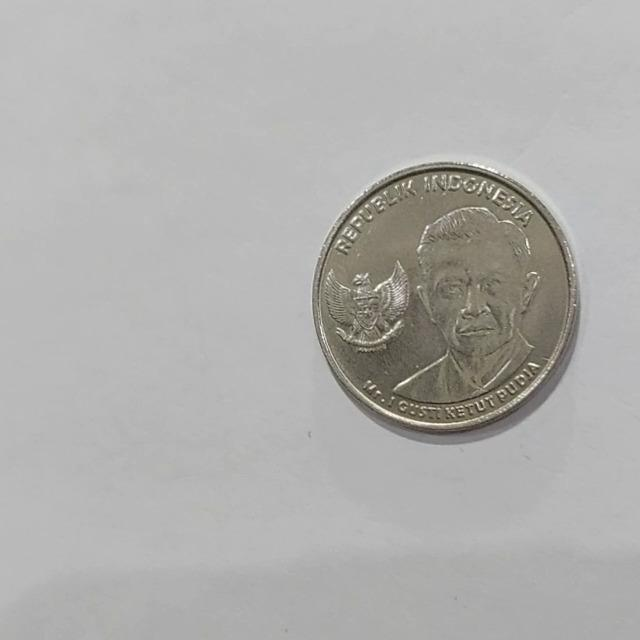Rp100: (311, 159, 580, 437)
